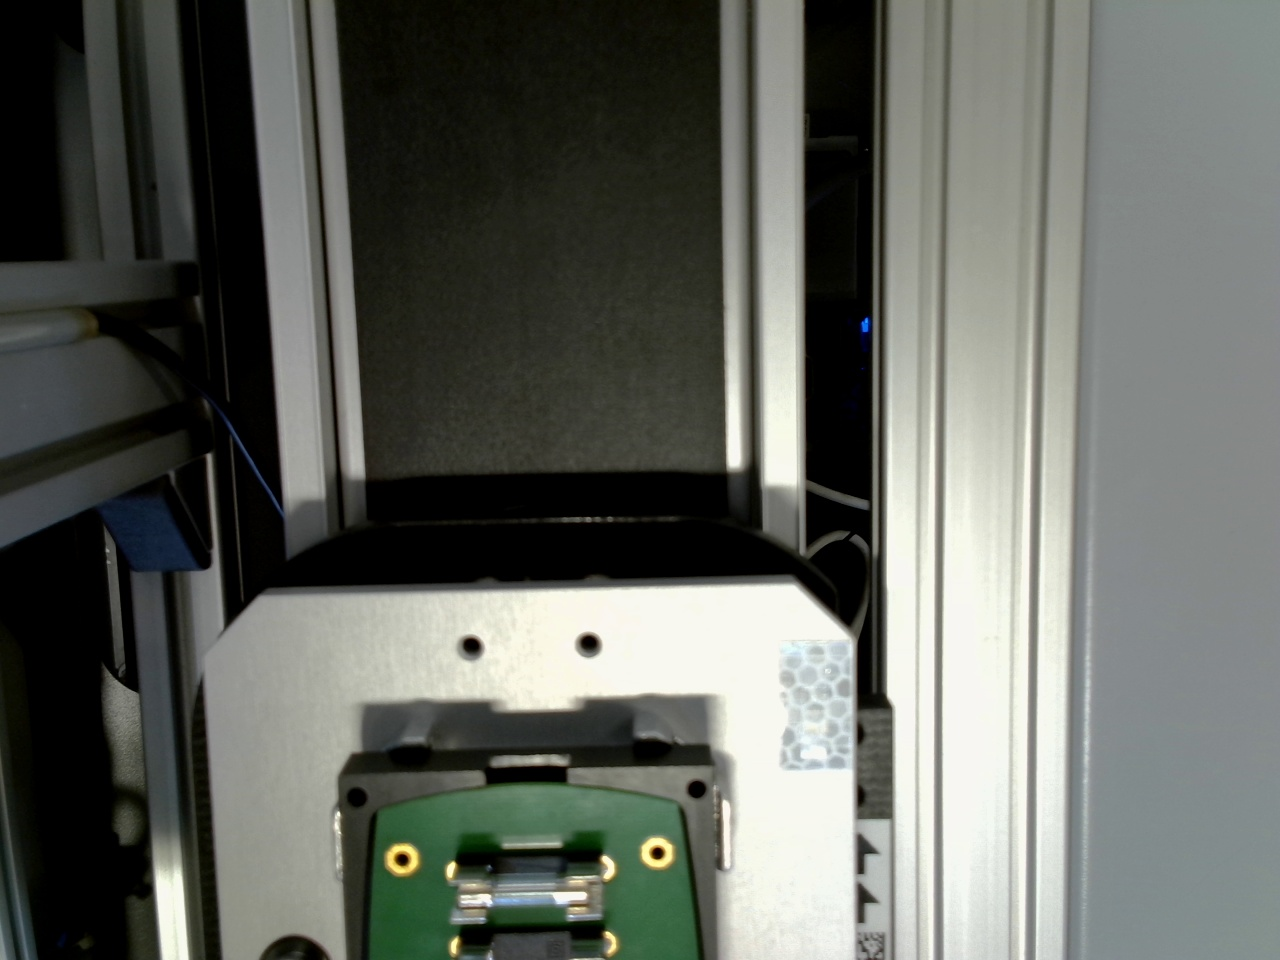Onefuse: (451, 866, 598, 920)
